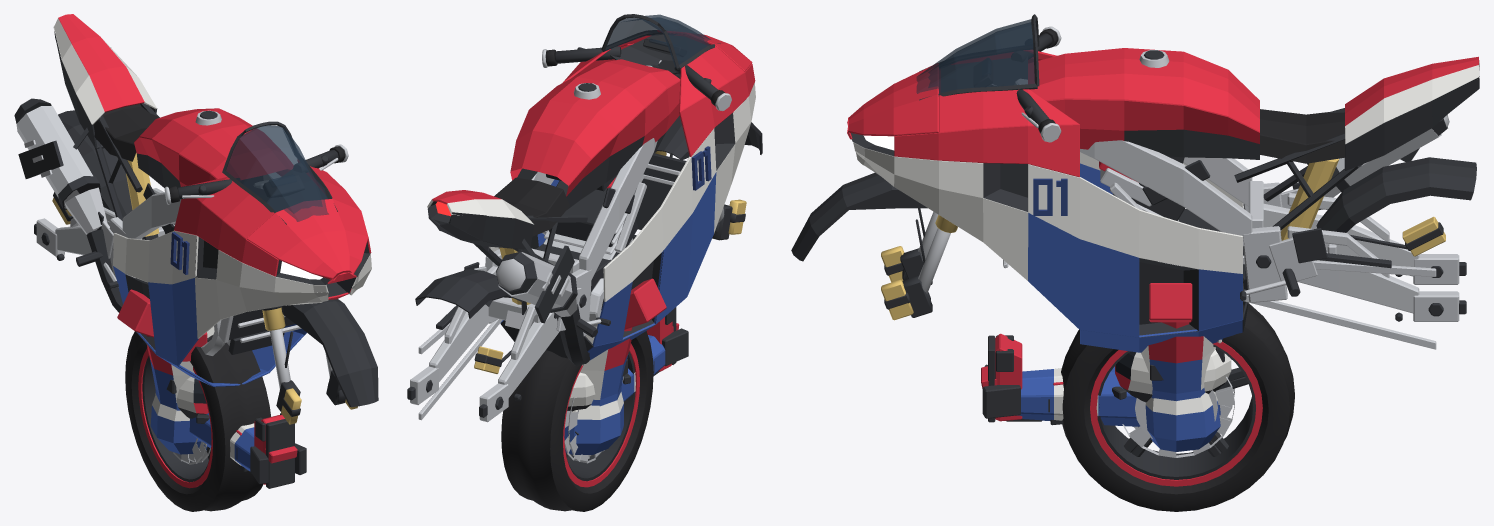
File: bike_hi.glb
3 renders of one model, left to right at view 1: azimuth 30°, elevation 25°; view 2: azimuth 150°, elevation 25°; view 3: azimuth 270°, elevation 25°, orthographic. The views are drawn at different scales.
Parts seen in each view (by area): view 1: body, frame, wheelRear, fork, bubble, torso, thighL, shinL, pelvis, helmet, headlight, thighR (+1 smaller); view 2: body, frame, wheelRear, torso, bubble, pelvis, fork, helmet, thighR, thighL, shinL, wheelFront; view 3: body, frame, wheelRear, fork, bubble, torso, thighL, pelvis, helmet, wheelFront, shinL.
Boxes of the visible parts, left/top/right/bottom form: body: left=53, top=14, right=371, bottom=386; frame: left=14, top=98, right=348, bottom=355; wheelRear: left=125, top=331, right=270, bottom=511; fork: left=261, top=299, right=378, bottom=424; bubble: left=222, top=121, right=337, bottom=224; torso: left=117, top=289, right=214, bottom=410; thighL: left=189, top=413, right=306, bottom=474; shinL: left=250, top=413, right=294, bottom=488; pelvis: left=150, top=394, right=207, bottom=454; helmet: left=166, top=377, right=209, bottom=423; headlight: left=276, top=242, right=370, bottom=284; thighR: left=250, top=446, right=268, bottom=483; body: left=427, top=30, right=755, bottom=360; frame: left=407, top=34, right=731, bottom=422; wheelRear: left=501, top=331, right=653, bottom=511; torso: left=567, top=278, right=666, bottom=410; bubble: left=601, top=14, right=720, bottom=69; pelvis: left=564, top=392, right=623, bottom=454; fork: left=652, top=60, right=762, bottom=240; helmet: left=567, top=359, right=630, bottom=411; thighR: left=662, top=328, right=688, bottom=366; thighL: left=621, top=323, right=679, bottom=401; shinL: left=646, top=307, right=676, bottom=376; wheelFront: left=564, top=401, right=624, bottom=476; body: left=847, top=48, right=1479, bottom=352; frame: left=941, top=26, right=1476, bottom=349; wheelRear: left=1061, top=303, right=1294, bottom=511; fork: left=791, top=84, right=1004, bottom=320; bubble: left=916, top=14, right=1039, bottom=100; torso: left=1141, top=283, right=1224, bottom=401; thighL: left=981, top=366, right=1139, bottom=426; pelvis: left=1145, top=391, right=1220, bottom=451; helmet: left=1112, top=347, right=1231, bottom=402; wheelFront: left=1105, top=376, right=1252, bottom=472; shinL: left=988, top=333, right=1041, bottom=422.
Size of the model in its own units: 0.6399 by 1.44 by 1.86.
